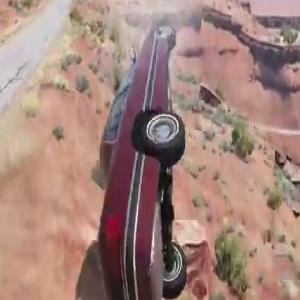fatal: (92, 10, 189, 300)
